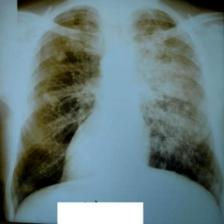tuberculosis: (4, 1, 224, 209)
